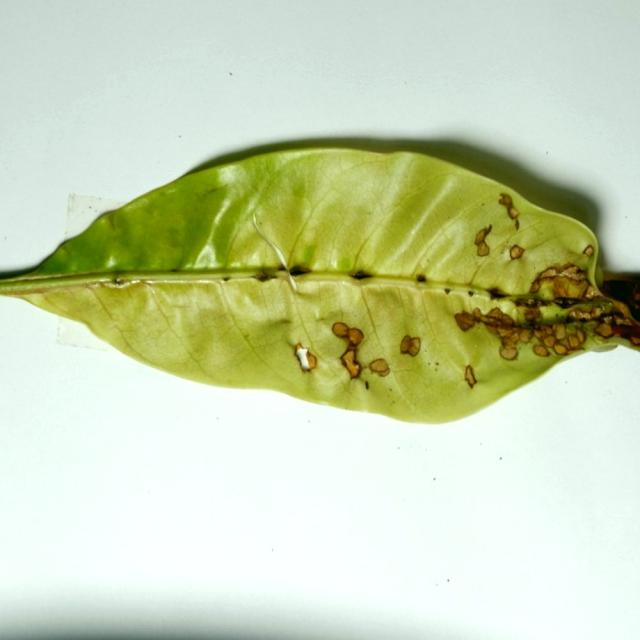Anthracnose: (529, 263, 585, 297), (291, 343, 323, 376), (606, 319, 640, 346), (293, 342, 317, 373), (533, 333, 561, 358), (498, 193, 519, 226), (552, 333, 582, 355), (474, 225, 492, 258), (548, 333, 579, 352), (341, 349, 361, 378), (486, 307, 515, 326), (567, 306, 603, 321), (400, 334, 421, 356), (454, 312, 476, 331), (611, 300, 631, 319), (369, 358, 390, 376), (559, 265, 584, 279), (464, 364, 478, 388), (331, 322, 351, 338), (594, 322, 614, 338), (499, 344, 518, 360), (287, 265, 313, 276), (595, 323, 614, 338), (347, 327, 363, 344), (516, 297, 540, 308), (538, 267, 558, 280), (509, 244, 525, 260), (523, 307, 540, 322), (534, 327, 551, 342), (502, 332, 519, 346), (497, 327, 515, 340), (484, 323, 501, 336), (518, 328, 533, 342), (613, 315, 632, 326), (499, 193, 513, 207), (347, 364, 360, 379), (533, 345, 549, 357), (555, 324, 567, 340), (582, 244, 595, 258), (553, 343, 568, 355), (529, 279, 541, 294), (543, 335, 556, 348), (472, 307, 484, 321), (575, 328, 586, 343), (600, 315, 614, 325), (635, 281, 640, 306), (634, 333, 640, 346), (364, 381, 369, 390), (468, 290, 475, 296)
Mango: (0, 136, 639, 428)
